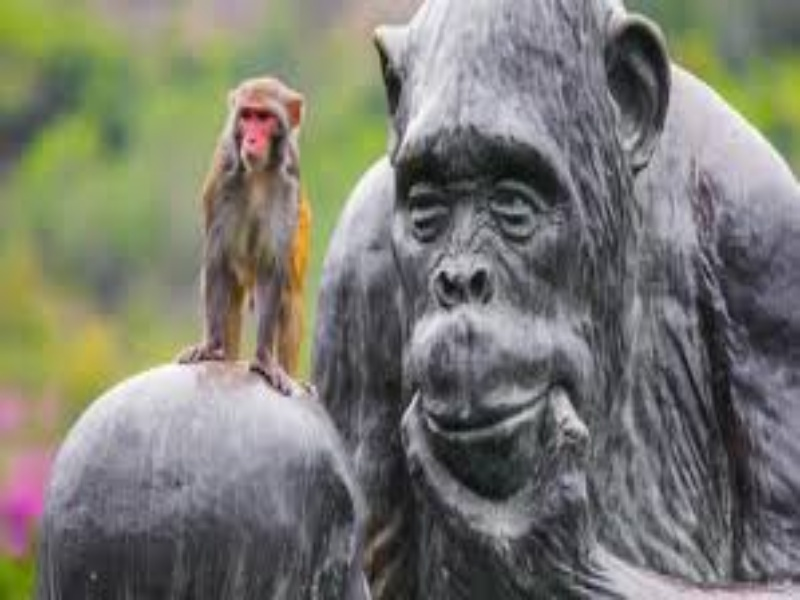monkey: (336, 12, 766, 596), (187, 76, 326, 391)
